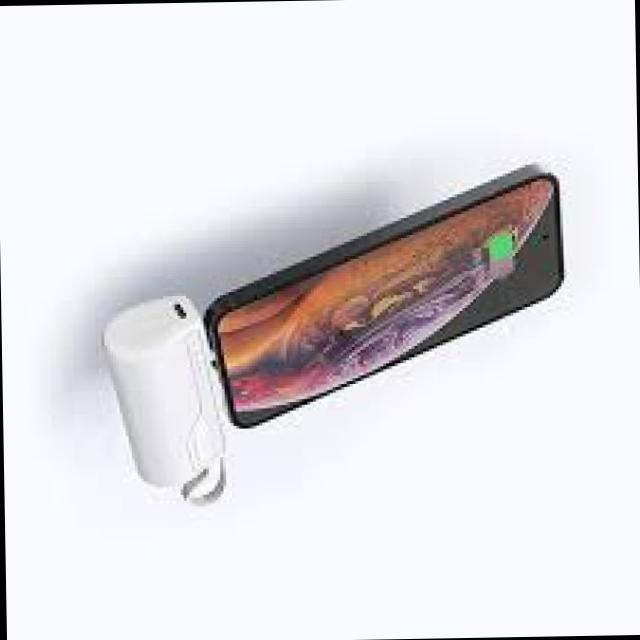power_bank: (96, 288, 226, 496)
